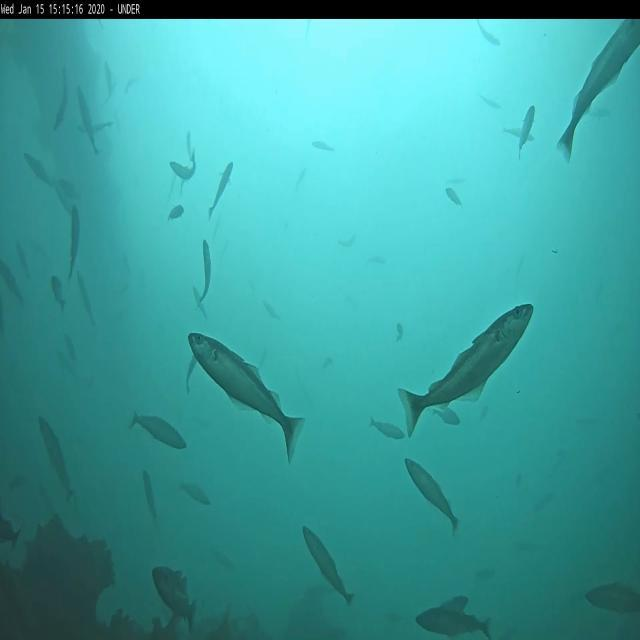fish: (401, 305, 534, 437), (189, 335, 307, 465), (559, 20, 639, 164), (406, 458, 462, 533), (304, 526, 356, 605), (40, 420, 76, 502), (152, 566, 196, 632), (415, 607, 492, 639), (130, 410, 187, 452), (586, 582, 640, 614), (77, 84, 99, 158), (210, 162, 232, 214), (0, 262, 24, 307), (77, 272, 96, 328), (54, 65, 68, 132), (368, 416, 405, 441), (67, 206, 79, 280), (518, 104, 534, 159), (179, 480, 211, 506), (199, 240, 211, 308), (170, 151, 197, 181), (24, 152, 50, 182), (142, 469, 156, 522), (476, 20, 502, 48), (436, 594, 469, 615), (1, 518, 22, 551), (15, 240, 30, 281), (504, 125, 534, 142), (433, 407, 461, 425), (52, 272, 64, 312), (64, 333, 78, 364), (478, 95, 504, 111), (262, 301, 280, 321), (77, 122, 111, 132), (311, 140, 334, 154), (104, 62, 112, 102), (446, 187, 462, 206), (166, 205, 183, 222), (124, 76, 138, 96), (296, 168, 305, 188), (186, 131, 192, 159), (340, 236, 354, 248), (367, 258, 385, 265)
